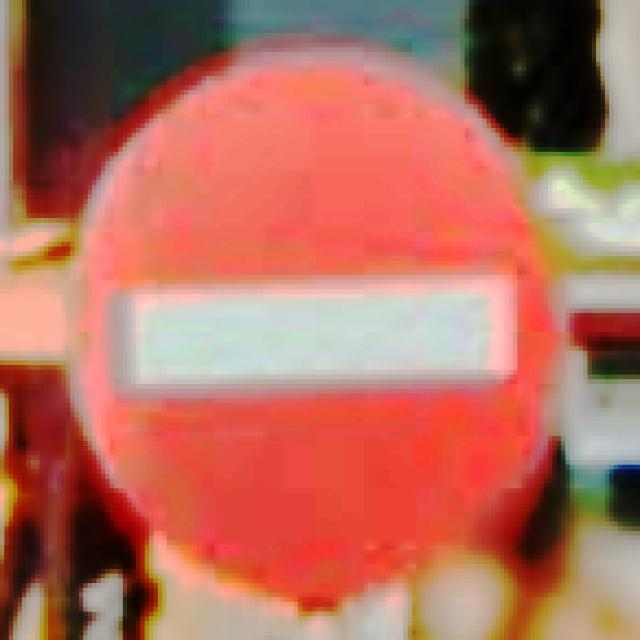noentry: (55, 35, 568, 614)
